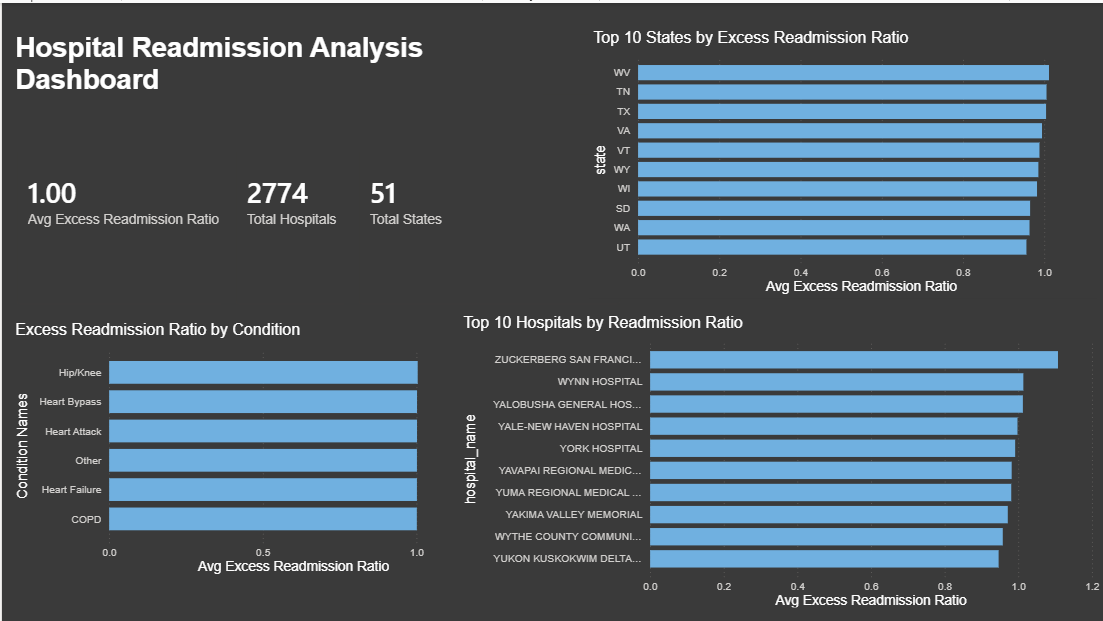

What the dashboard file says about the page in this screenshot:
{"tool":"powerbi","page":{"name":"Page 1","canvas":[1280,720],"ordinal":0},"visuals":[{"type":"cardVisual","fields":{"Data":["Hospital_Readmissions_Clean.Avg Excess Readmission Ratio"]},"box":[0,88.3,338,279.9],"z":0},{"type":"cardVisual","fields":{"Data":["Hospital_Readmissions_Clean.Total Hospitals"]},"box":[254.4,88.3,338,279.9],"z":1},{"type":"cardVisual","fields":{"Data":["Hospital_Readmissions_Clean.Total States"]},"box":[397.2,88.3,338,279.9],"z":2},{"type":"clusteredBarChart","title":"Excess Readmission Ratio by Condition","fields":{"Category":["Hospital_Readmissions_Clean.Condition Names"],"Y":["Hospital_Readmissions_Clean.Avg Excess Readmission Ratio"]},"box":[10.5,368.2,556.4,299.7],"z":3},{"type":"clusteredBarChart","title":"Top 10 States by Excess Readmission Ratio","fields":{"Category":["Hospital_Readmissions_Clean.state"],"Y":["Hospital_Readmissions_Clean.Avg Excess Readmission Ratio"]},"box":[681.8,29,590.1,313.6],"z":5},{"type":"clusteredBarChart","title":"Top 10 Hospitals by Readmission Ratio","fields":{"Category":["Hospital_Readmissions_Clean.hospital_name"],"Y":["Hospital_Readmissions_Clean.Avg Excess Readmission Ratio"]},"box":[530.8,360.1,749.2,347.3],"z":6},{"type":"textbox","box":[10.5,29,619.1,145.2],"z":7}]}

Visuals, with their boxes in screenshot pixels (x1, y1, x2, y2), scaled from the page's 1280x720 canvas onto the 1103x621 screenshot:
cardVisual - Hospital_Readmissions_Clean.Avg Excess Readmission Ratio: (left=0, top=76, right=291, bottom=318)
cardVisual - Hospital_Readmissions_Clean.Total Hospitals: (left=219, top=76, right=510, bottom=318)
cardVisual - Hospital_Readmissions_Clean.Total States: (left=342, top=76, right=634, bottom=318)
"Excess Readmission Ratio by Condition" clusteredBarChart: (left=9, top=318, right=489, bottom=576)
"Top 10 States by Excess Readmission Ratio" clusteredBarChart: (left=588, top=25, right=1096, bottom=295)
"Top 10 Hospitals by Readmission Ratio" clusteredBarChart: (left=457, top=311, right=1102, bottom=610)
textbox: (left=9, top=25, right=543, bottom=150)
